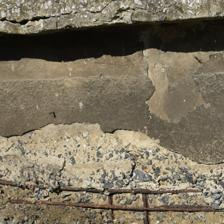Crack: (83, 35, 140, 123), (166, 0, 224, 53), (34, 69, 59, 93), (77, 51, 91, 64)
